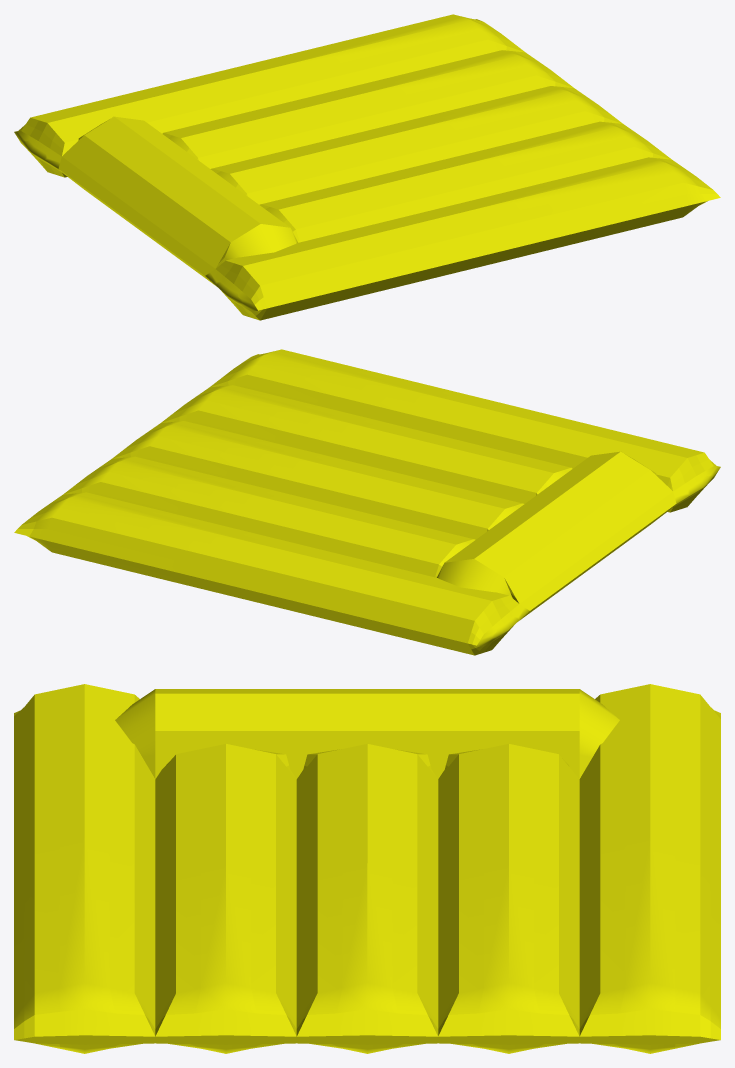
Rendered from LuchtBed.fbx.
3 renders of one model, top to bottom at view 1: azimuth 30°, elevation 25°; view 2: azimuth 150°, elevation 25°; view 3: azimuth 270°, elevation 25°, orthographic. The views are drawn at different scales.
Parts seen in each view (by area): view 1: LuchtBed1; view 2: LuchtBed1; view 3: LuchtBed1.
Boxes of the visible parts, <box> form: LuchtBed1: <box>14,14,720,320</box>; LuchtBed1: <box>14,349,720,655</box>; LuchtBed1: <box>14,684,720,1053</box>.
Bounding box in the file's own units: 2 × 0.3136 × 1.8.
